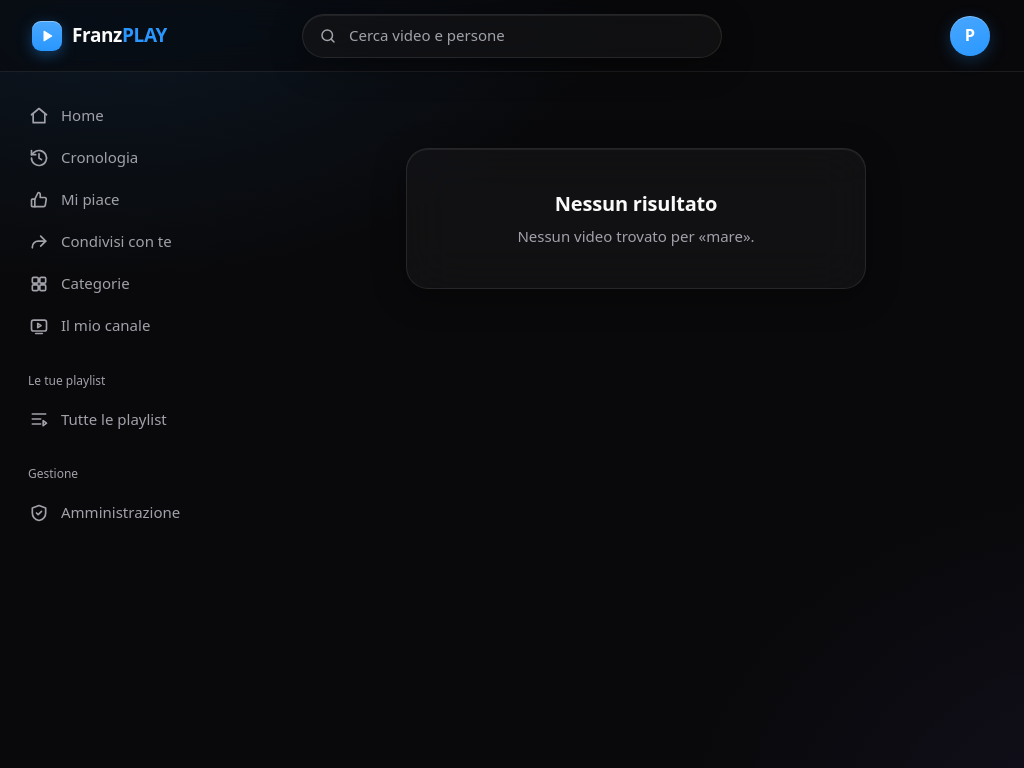
Test: search page › follows a new search made from the top bar
The image size is (1024, 768).
Type "lago" into the search field at (526, 36), box [347,24,705,47]
Then press Enter
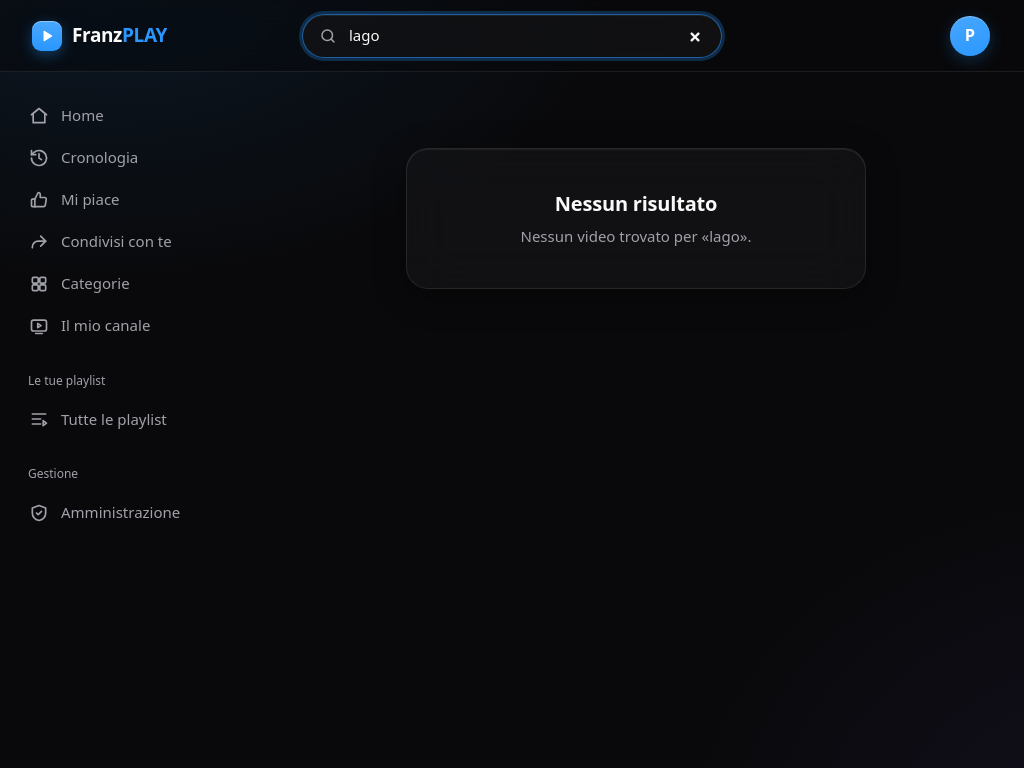
Expected: the text "Nessun video trovato per «lago»." is shown, [520,226,752,248]
